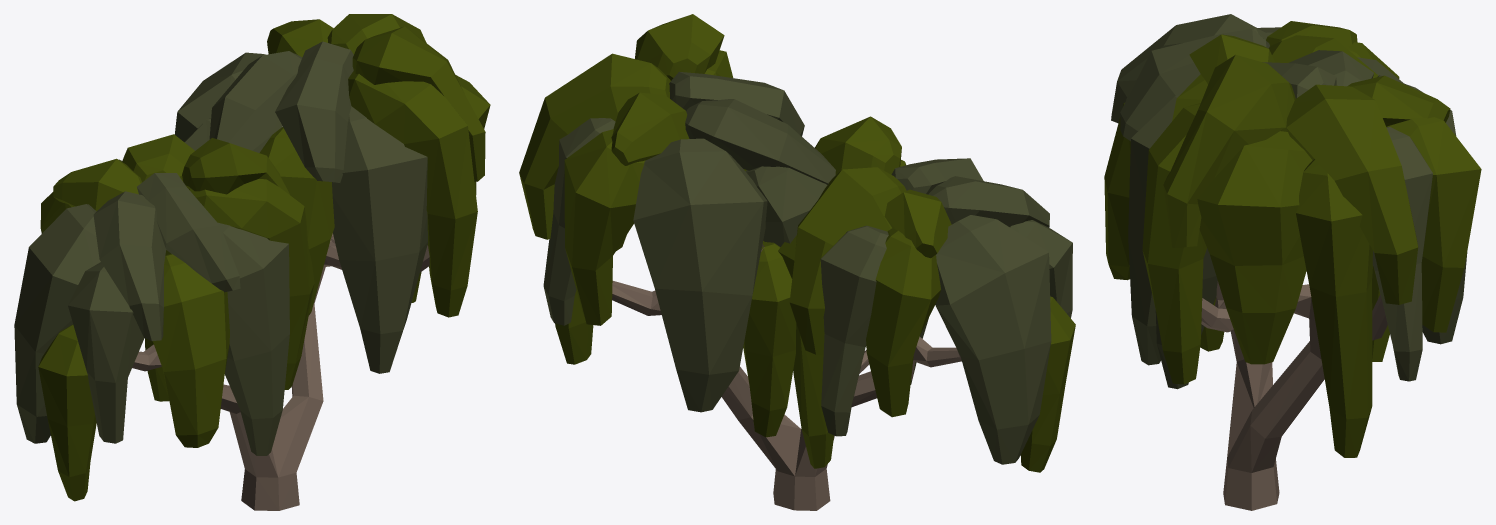
File: tree_0604.dae
The picture shows the model from 3 angles, left to right: view 1: azimuth 30°, elevation 25°; view 2: azimuth 150°, elevation 25°; view 3: azimuth 270°, elevation 25°; orthographic projection. The views are drawn at different scales.
Visible parts, largest first — view 1: tree_0604; view 2: tree_0604; view 3: tree_0604.
Part boxes in pixels (x1,y1,x2,y2): tree_0604: [14, 14, 490, 510]; tree_0604: [519, 14, 1075, 510]; tree_0604: [1104, 14, 1481, 510].
Size of the model in its own units: 5.09 by 3.17 by 4.67.
